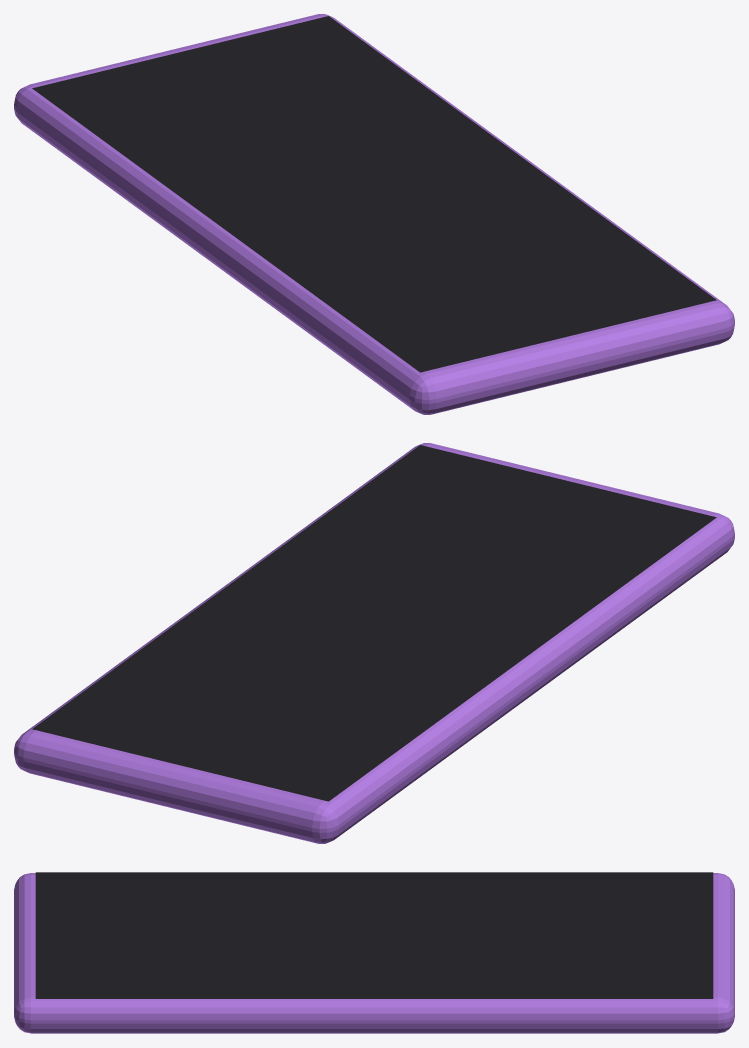
File: google-pixel-a-model-386-mid-range-2023.glb
The picture shows the model from 3 angles, top to bottom: view 1: azimuth 30°, elevation 25°; view 2: azimuth 150°, elevation 25°; view 3: azimuth 270°, elevation 25°; orthographic projection. The views are drawn at different scales.
Parts seen in each view (by area): view 1: Phone_Screen, Phone_Body; view 2: Phone_Screen, Phone_Body; view 3: Phone_Screen, Phone_Body.
Boxes of the visible parts, x1,y1,x2,y2 form: Phone_Screen: [32, 16, 716, 372]; Phone_Body: [14, 14, 734, 414]; Phone_Screen: [32, 445, 716, 801]; Phone_Body: [14, 443, 734, 843]; Phone_Screen: [35, 872, 713, 998]; Phone_Body: [14, 873, 734, 1033].
Size of the model in its own units: 0.0752 by 0.0089 by 0.1668.
